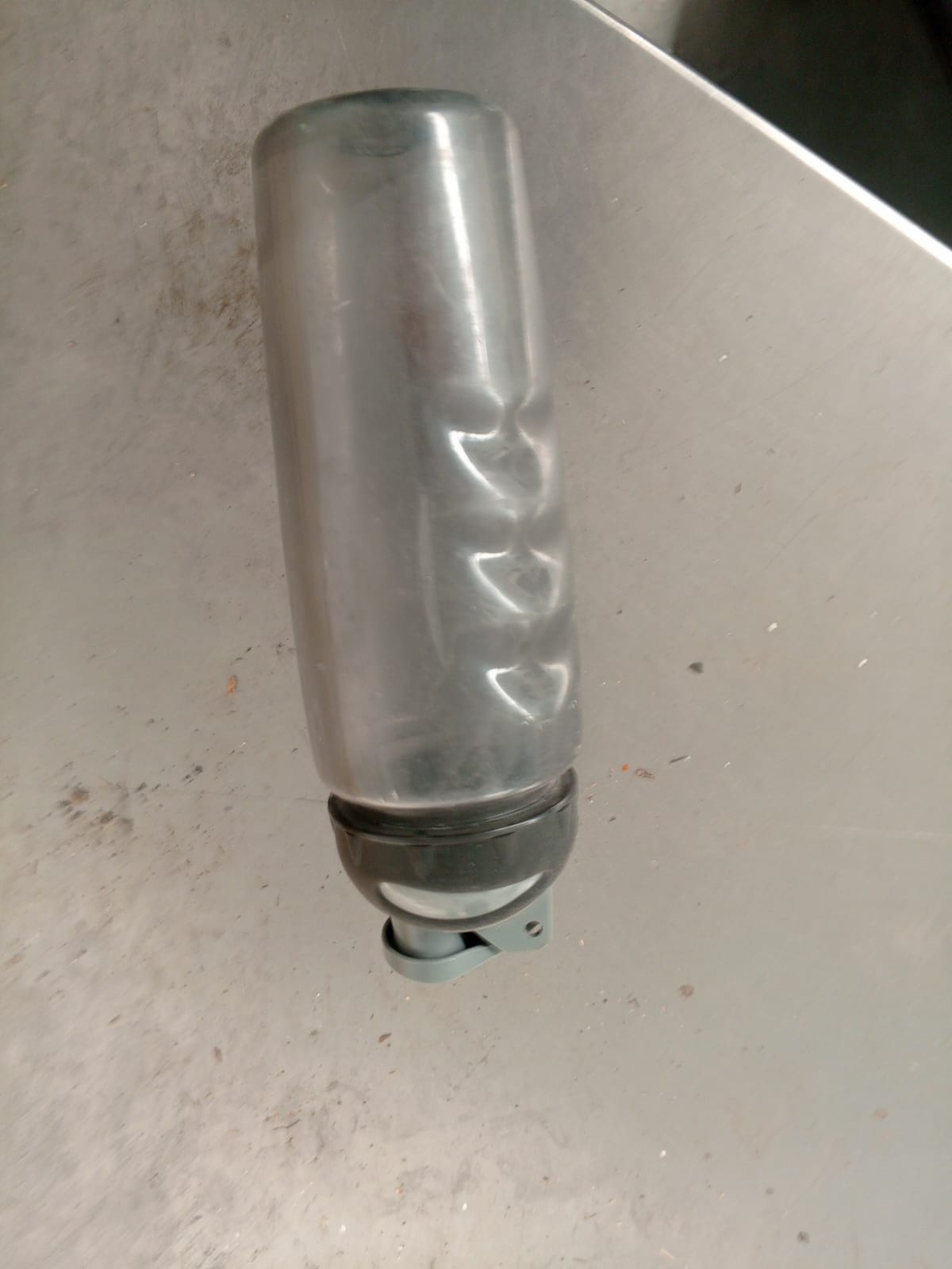Plastico: (251, 87, 581, 986)
